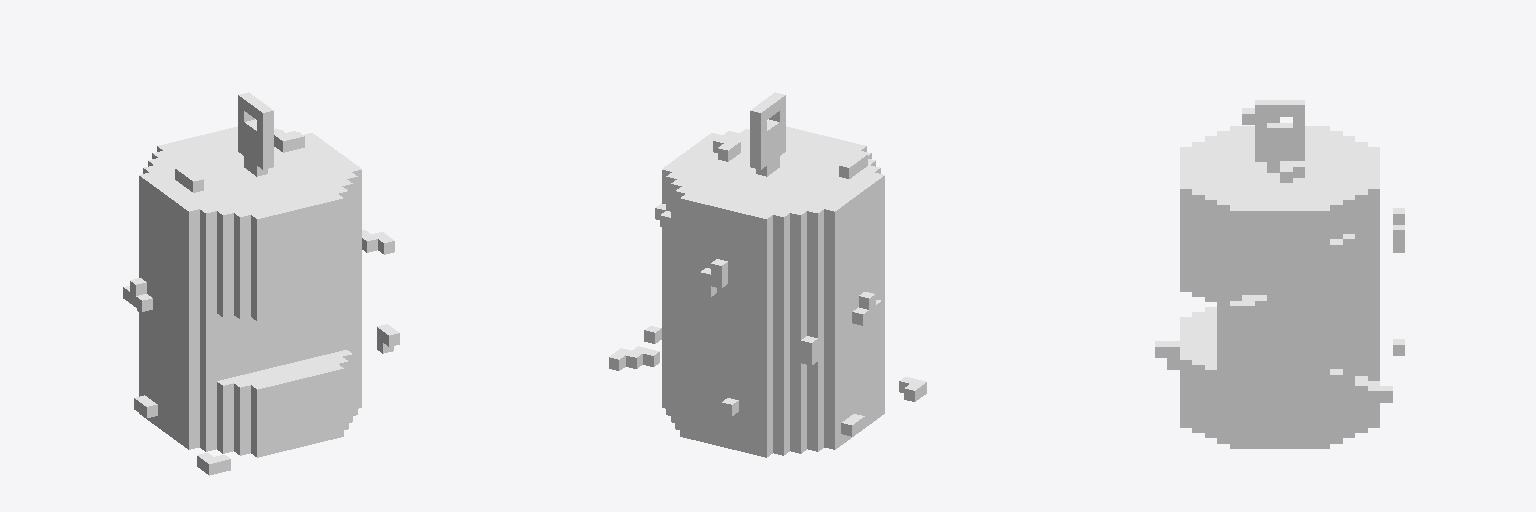
File: canblueboomm 1.obj
3 renders of one model, left to right at view 1: azimuth 30°, elevation 25°; view 2: azimuth 150°, elevation 25°; view 3: azimuth 270°, elevation 25°, orthographic.
Visible parts, largest first — view 1: object 1; view 2: object 1; view 3: object 1.
Part boxes in pixels (x1,y1,x2,y2): object 1: (123,92,399,475); object 1: (609,92,926,457); object 1: (1155,100,1404,448).
Size of the model in its own units: 2.1 by 2.7 by 2.